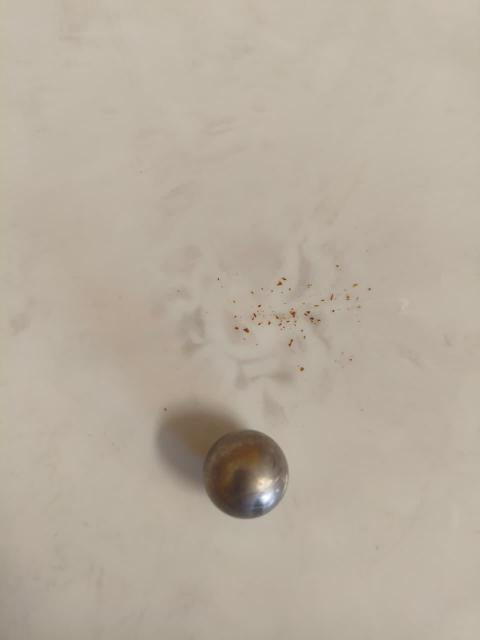Metal: (207, 430, 288, 522)
